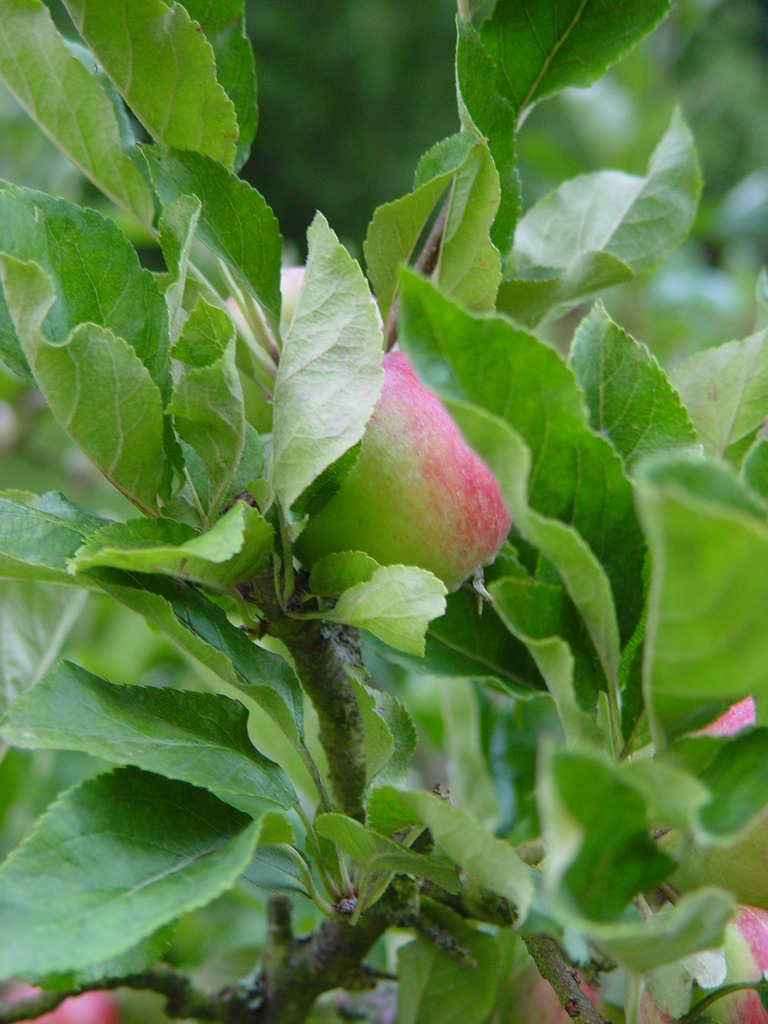Apple: (287, 348, 513, 593), (634, 900, 767, 1020), (506, 956, 667, 1023), (221, 261, 316, 364), (0, 979, 116, 1023), (695, 690, 753, 739)
